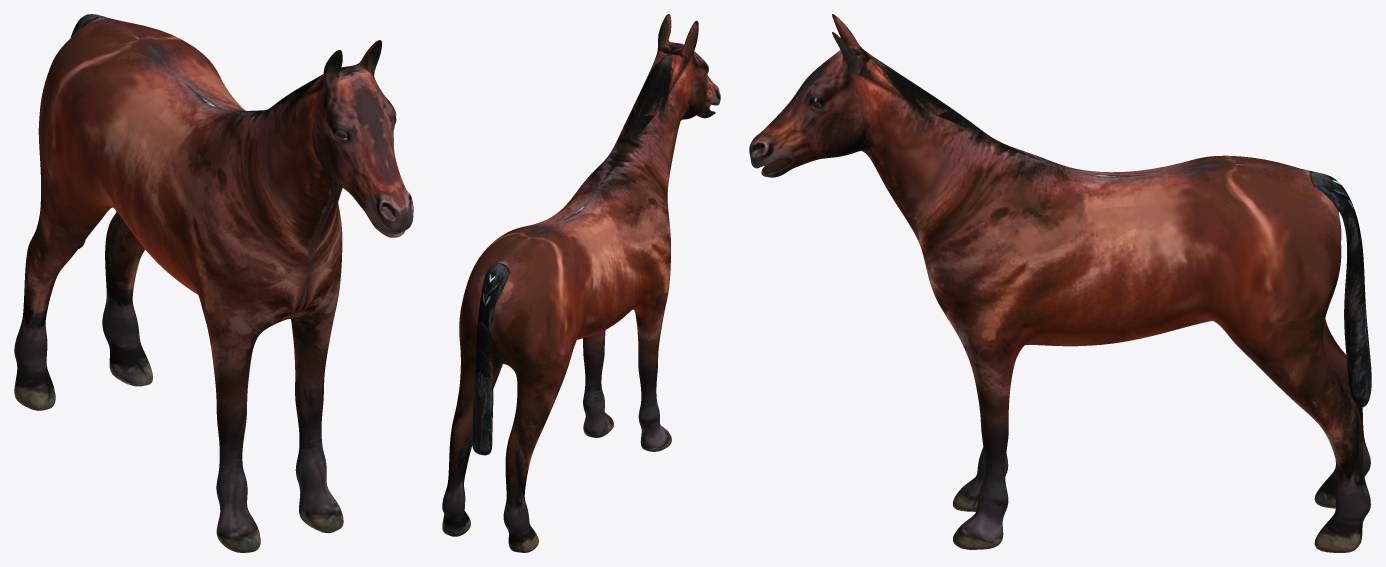
The model's file is horse.glb.
The picture shows the model from 3 angles, left to right: view 1: azimuth 30°, elevation 25°; view 2: azimuth 150°, elevation 25°; view 3: azimuth 270°, elevation 25°; orthographic projection. The views are drawn at different scales.
Parts seen in each view (by area): view 1: 10026_Horse_v01-it2.001; view 2: 10026_Horse_v01-it2.001; view 3: 10026_Horse_v01-it2.001.
Part boxes in pixels (<box>): 10026_Horse_v01-it2.001: <box>14,14,413,552</box>; 10026_Horse_v01-it2.001: <box>442,14,720,552</box>; 10026_Horse_v01-it2.001: <box>749,14,1371,552</box>.
Bounding box in the file's own units: 29.86 × 112 × 125.
1 material, 1 textured.
